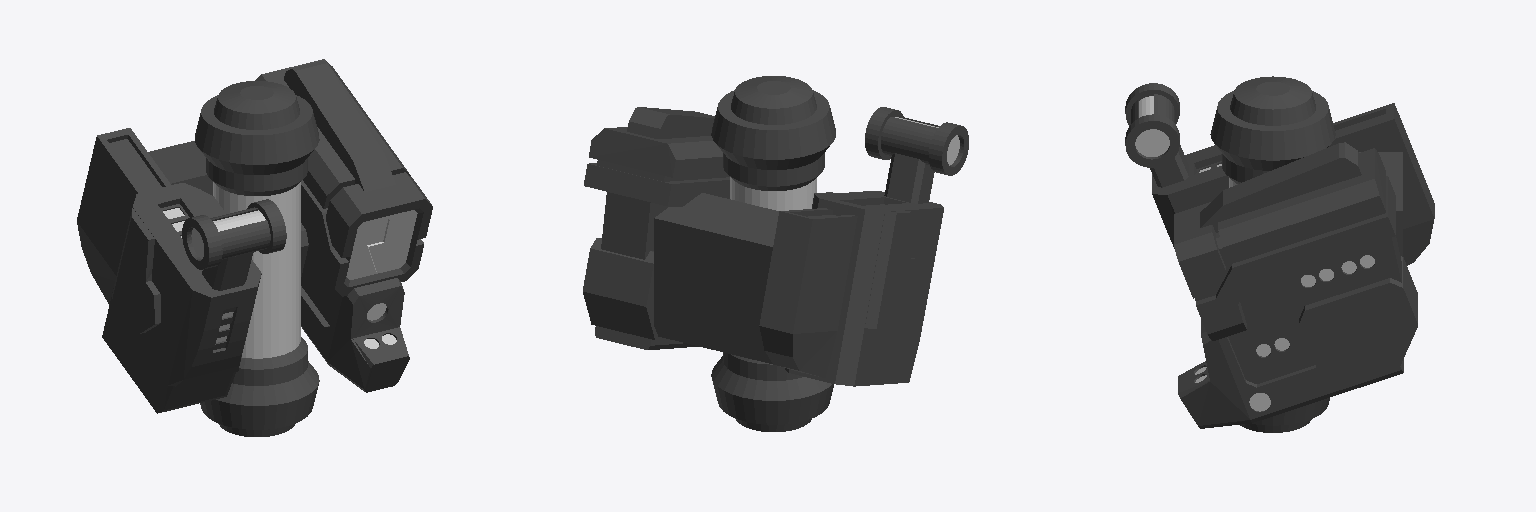
Rendered from lock.obj.
3 renders of one model, left to right at view 1: azimuth 30°, elevation 25°; view 2: azimuth 150°, elevation 25°; view 3: azimuth 270°, elevation 25°, orthographic.
Visible parts, largest first — view 1: Cylinder.004_Cylinder.005; view 2: Cylinder.004_Cylinder.005; view 3: Cylinder.004_Cylinder.005.
Boxes of the visible parts, x1,y1,x2,y2 form: Cylinder.004_Cylinder.005: [77, 59, 432, 436]; Cylinder.004_Cylinder.005: [583, 76, 968, 431]; Cylinder.004_Cylinder.005: [1125, 76, 1434, 432].
Size of the model in its own units: 2.5 by 3.14 by 2.65.